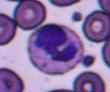N: (26, 23, 84, 76)
